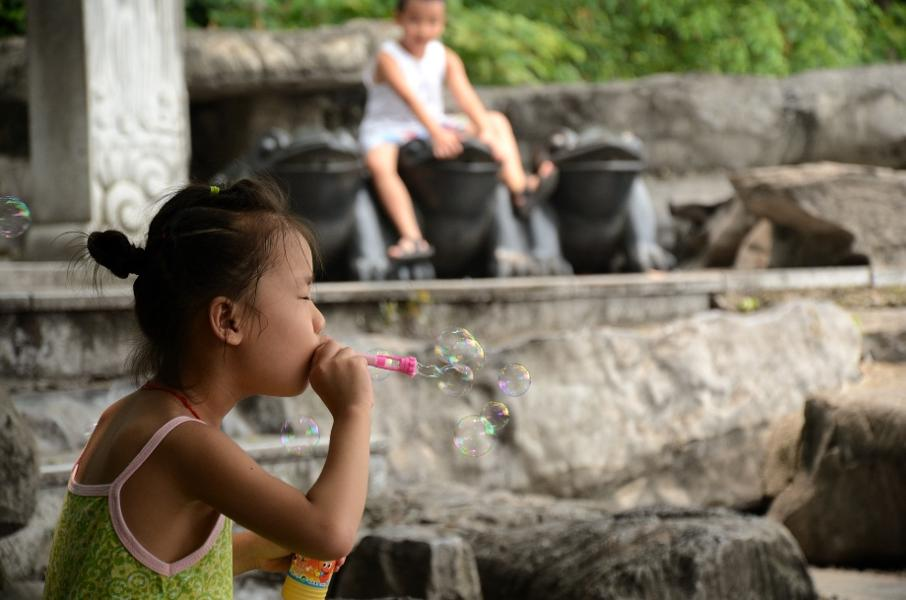person: (45, 175, 375, 600)
